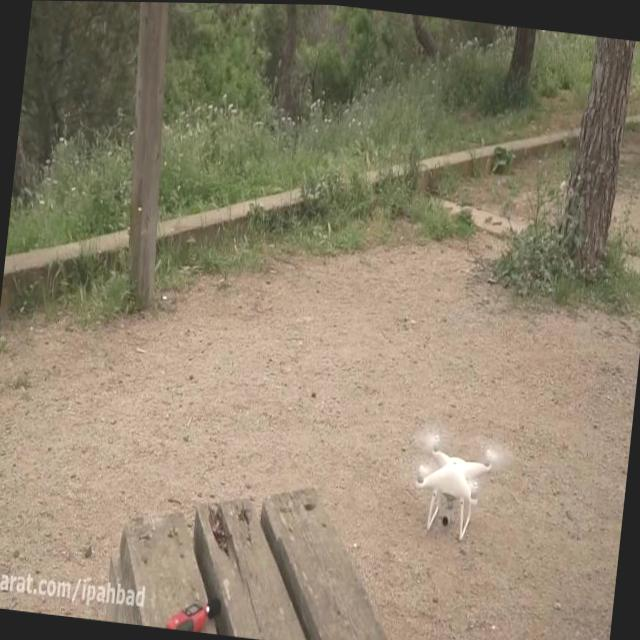drone: (400, 416, 514, 546)
